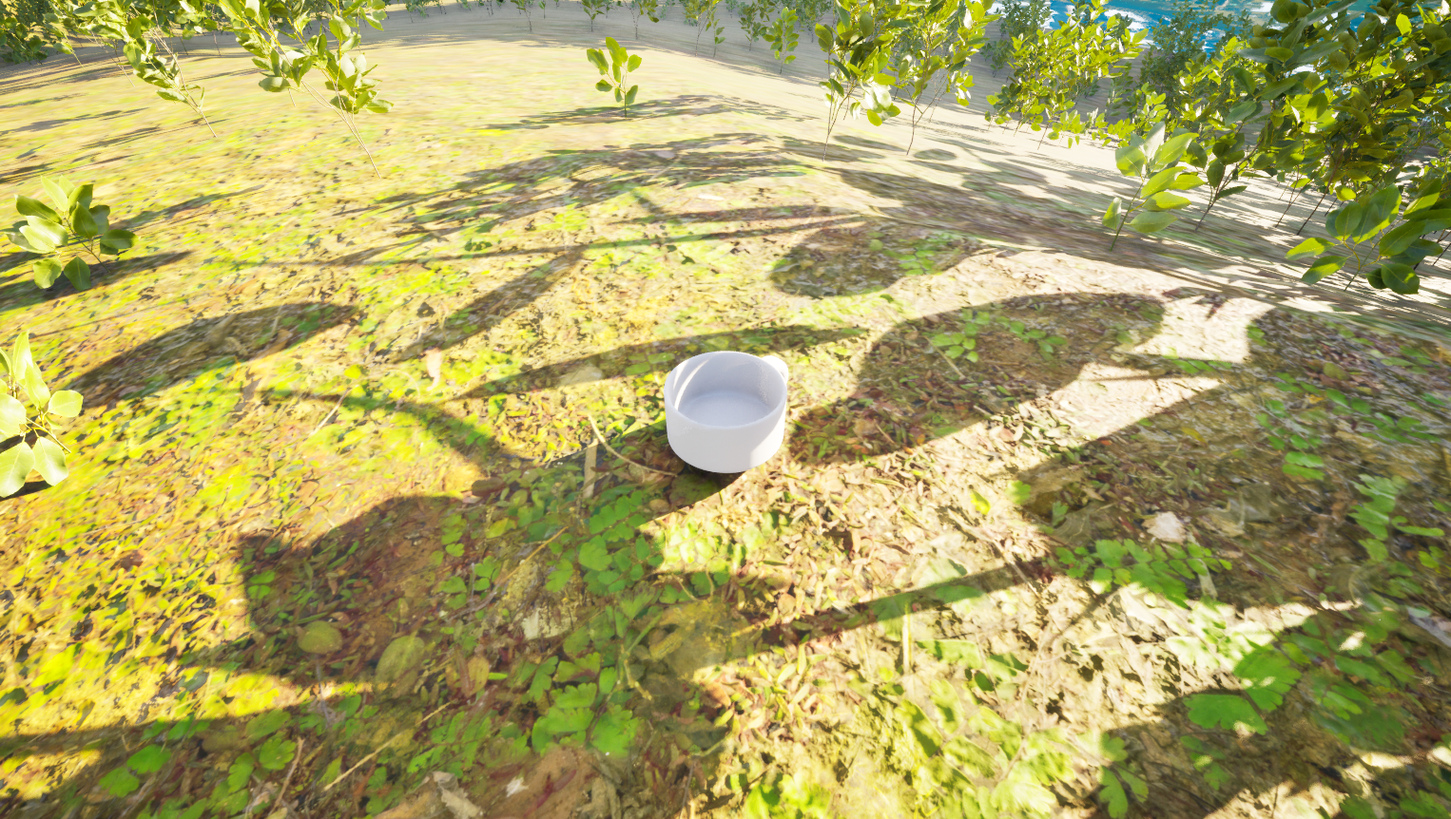Teacup: (656, 342, 823, 483)
